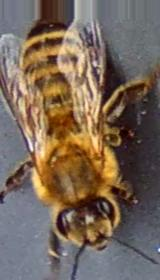varroa_mite: (18, 98, 49, 132)
